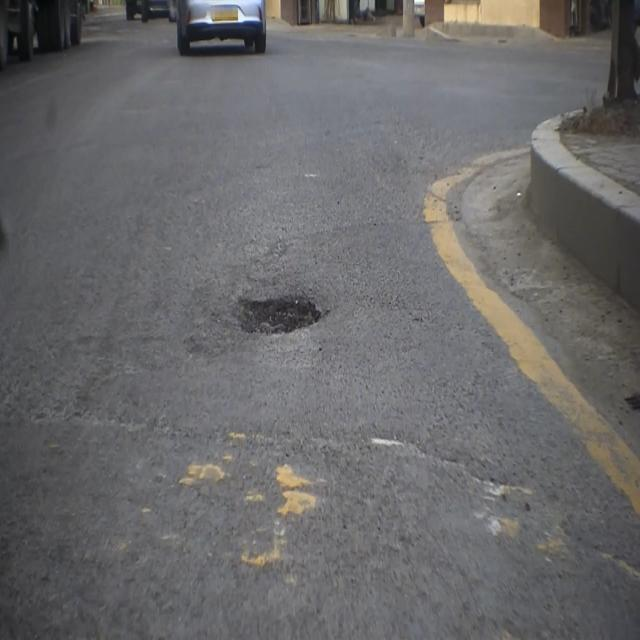Pothole: (224, 284, 332, 351)
